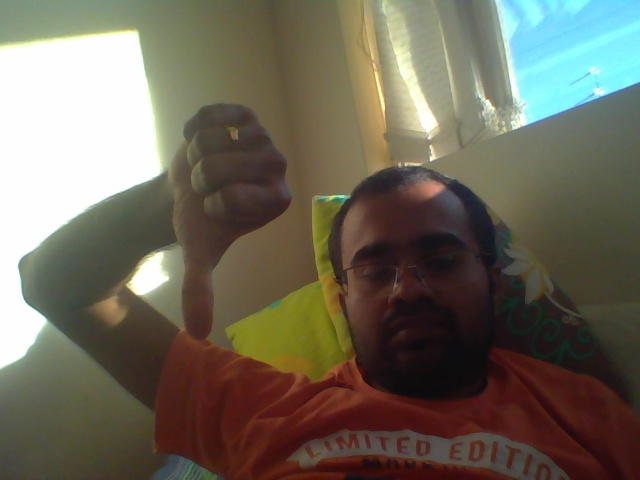ThumbsDown: (162, 98, 295, 343)
